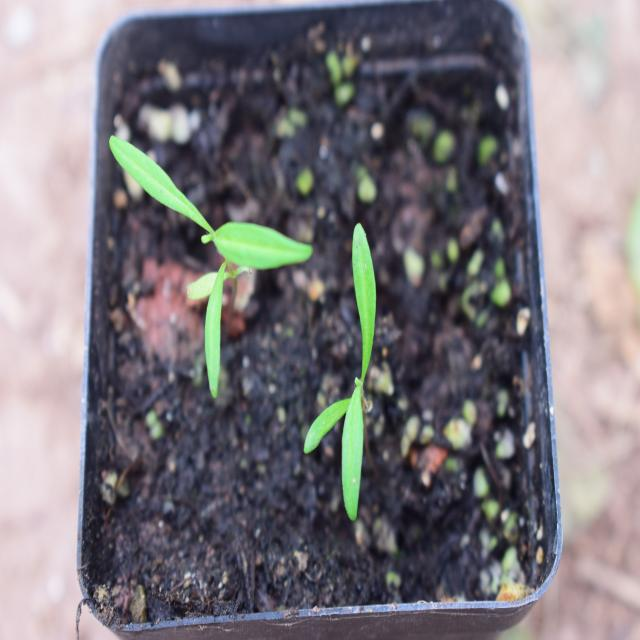white_smart_weed: (117, 115, 308, 368), (300, 210, 437, 494)
